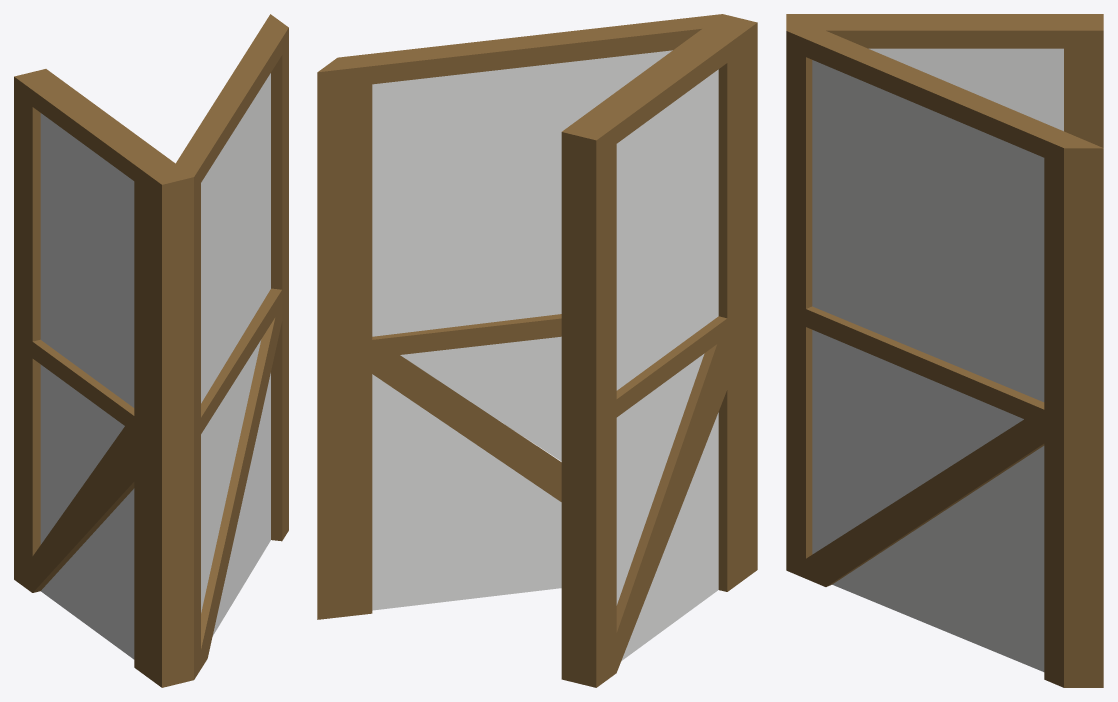
3 renders of one model, left to right at view 1: azimuth 30°, elevation 25°; view 2: azimuth 150°, elevation 25°; view 3: azimuth 270°, elevation 25°, orthographic. The views are drawn at different scales.
Bounding box in the file's own units: 128 × 240 × 128.
1 material, 1 textured.
